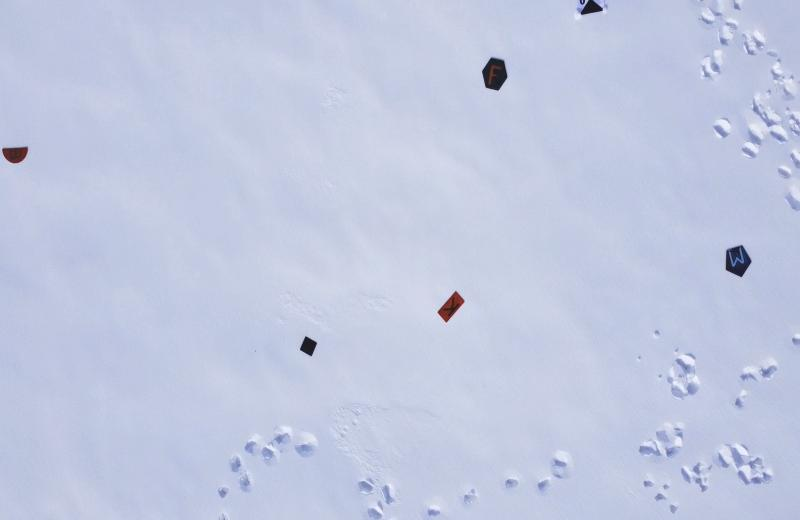Hexagon: (474, 54, 519, 100)
Pentagon: (719, 240, 762, 286)
Rectangle: (425, 281, 474, 325)
Semi Circle: (0, 132, 39, 181)
Square: (289, 327, 322, 365)
